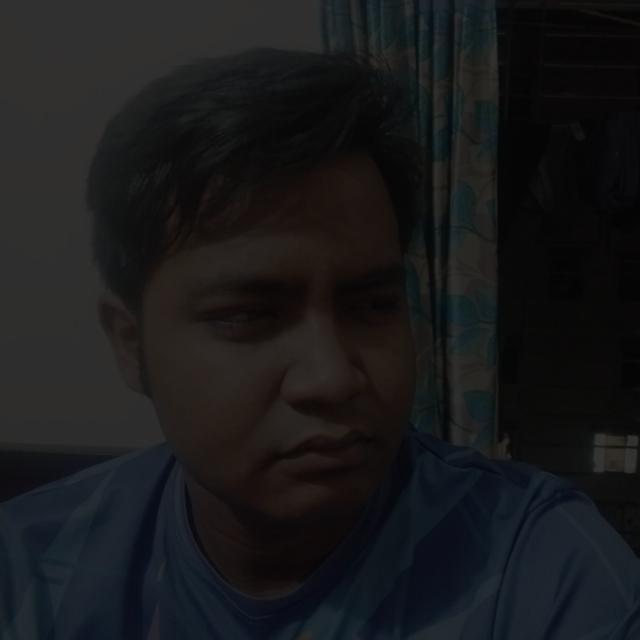Disgust: (90, 102, 457, 566)
